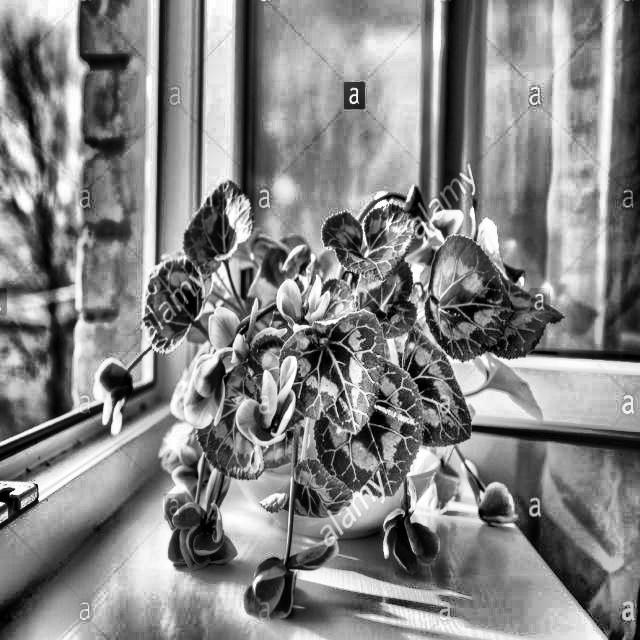plants: (110, 248, 558, 620)
